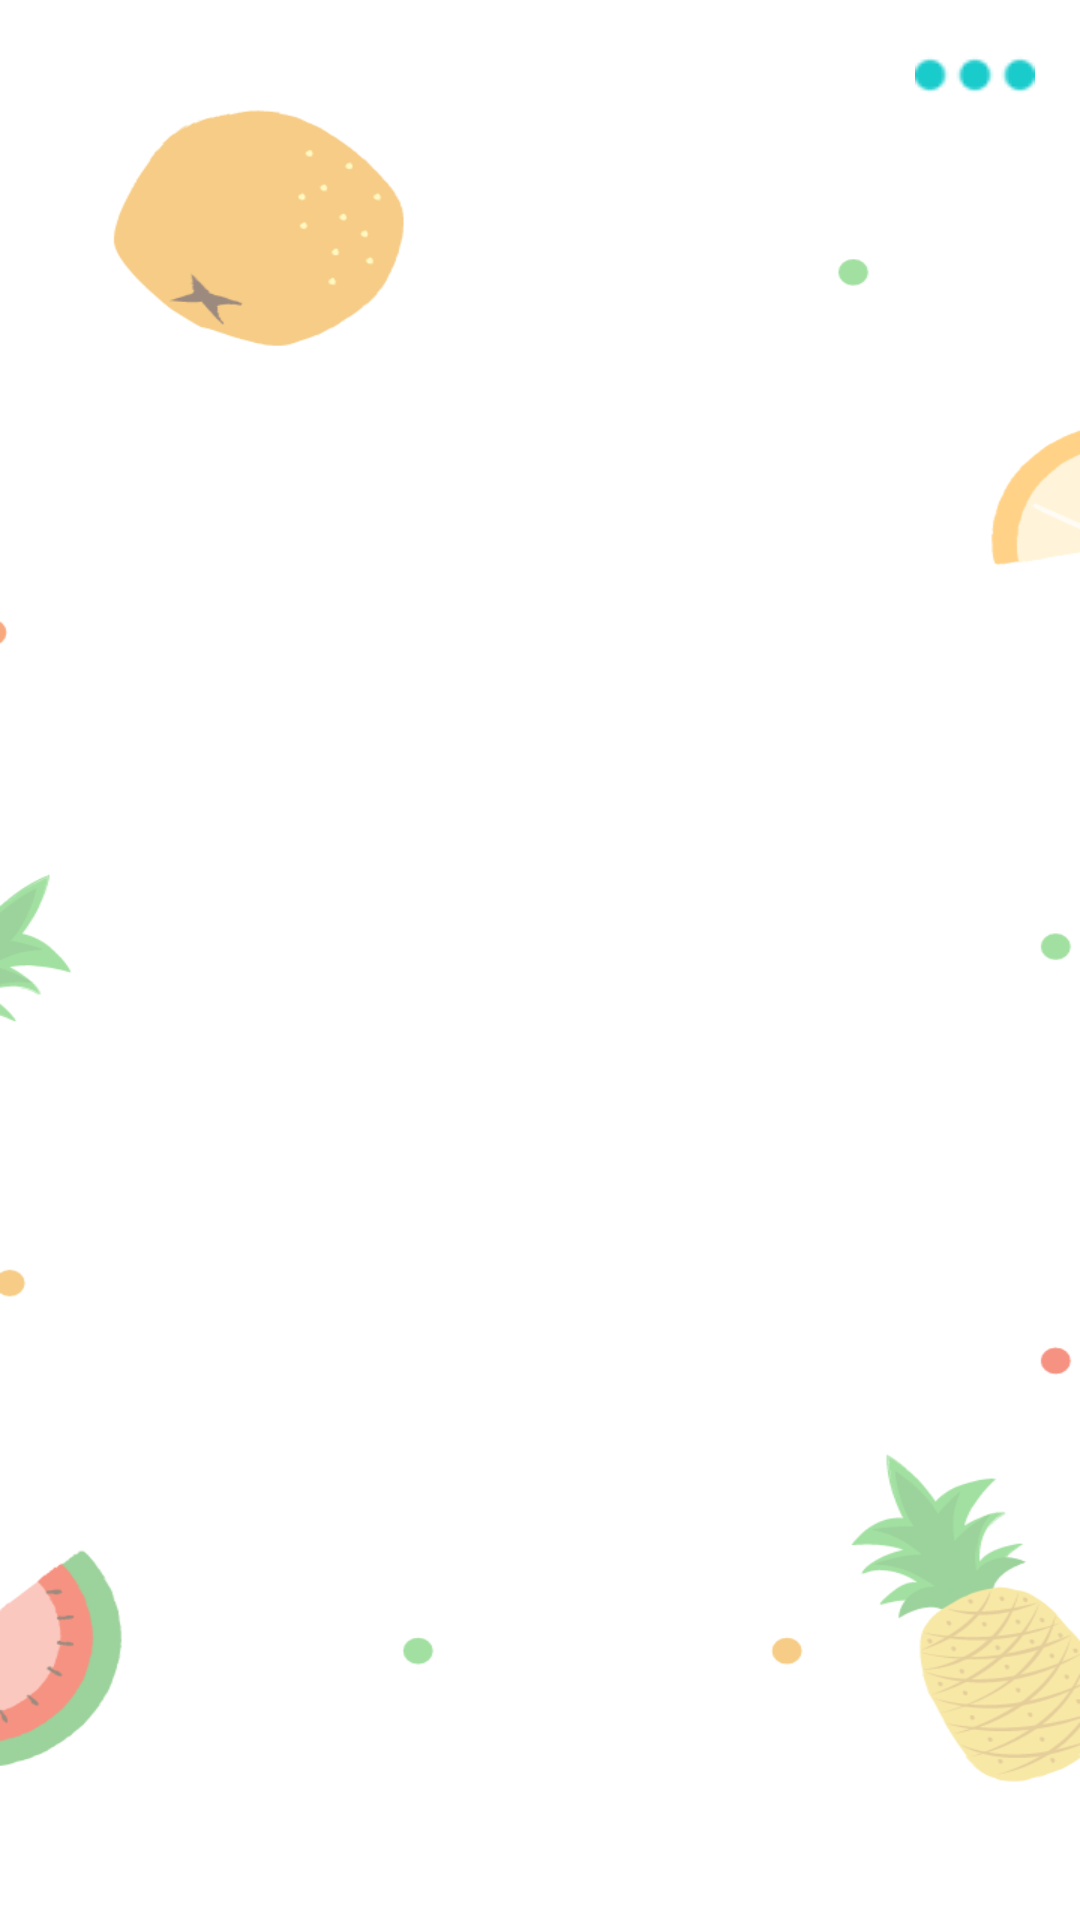

Icons on this 1080px×1920px Android screen, each with its box as (x1, y1, x2, y2):
more option: (915, 59, 1035, 91)
